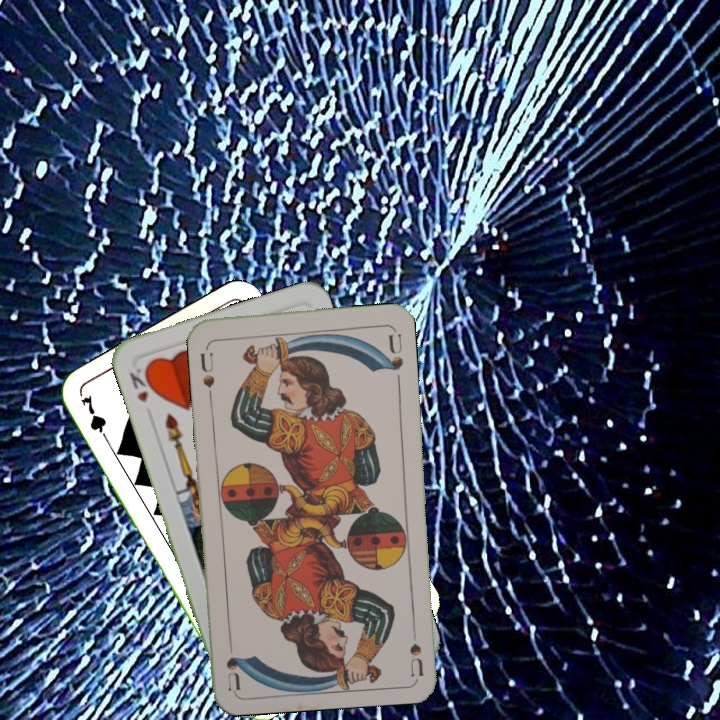G7: (76, 391, 113, 448)
HK: (125, 360, 157, 406)
SU: (406, 618, 426, 677), (196, 349, 218, 390)
